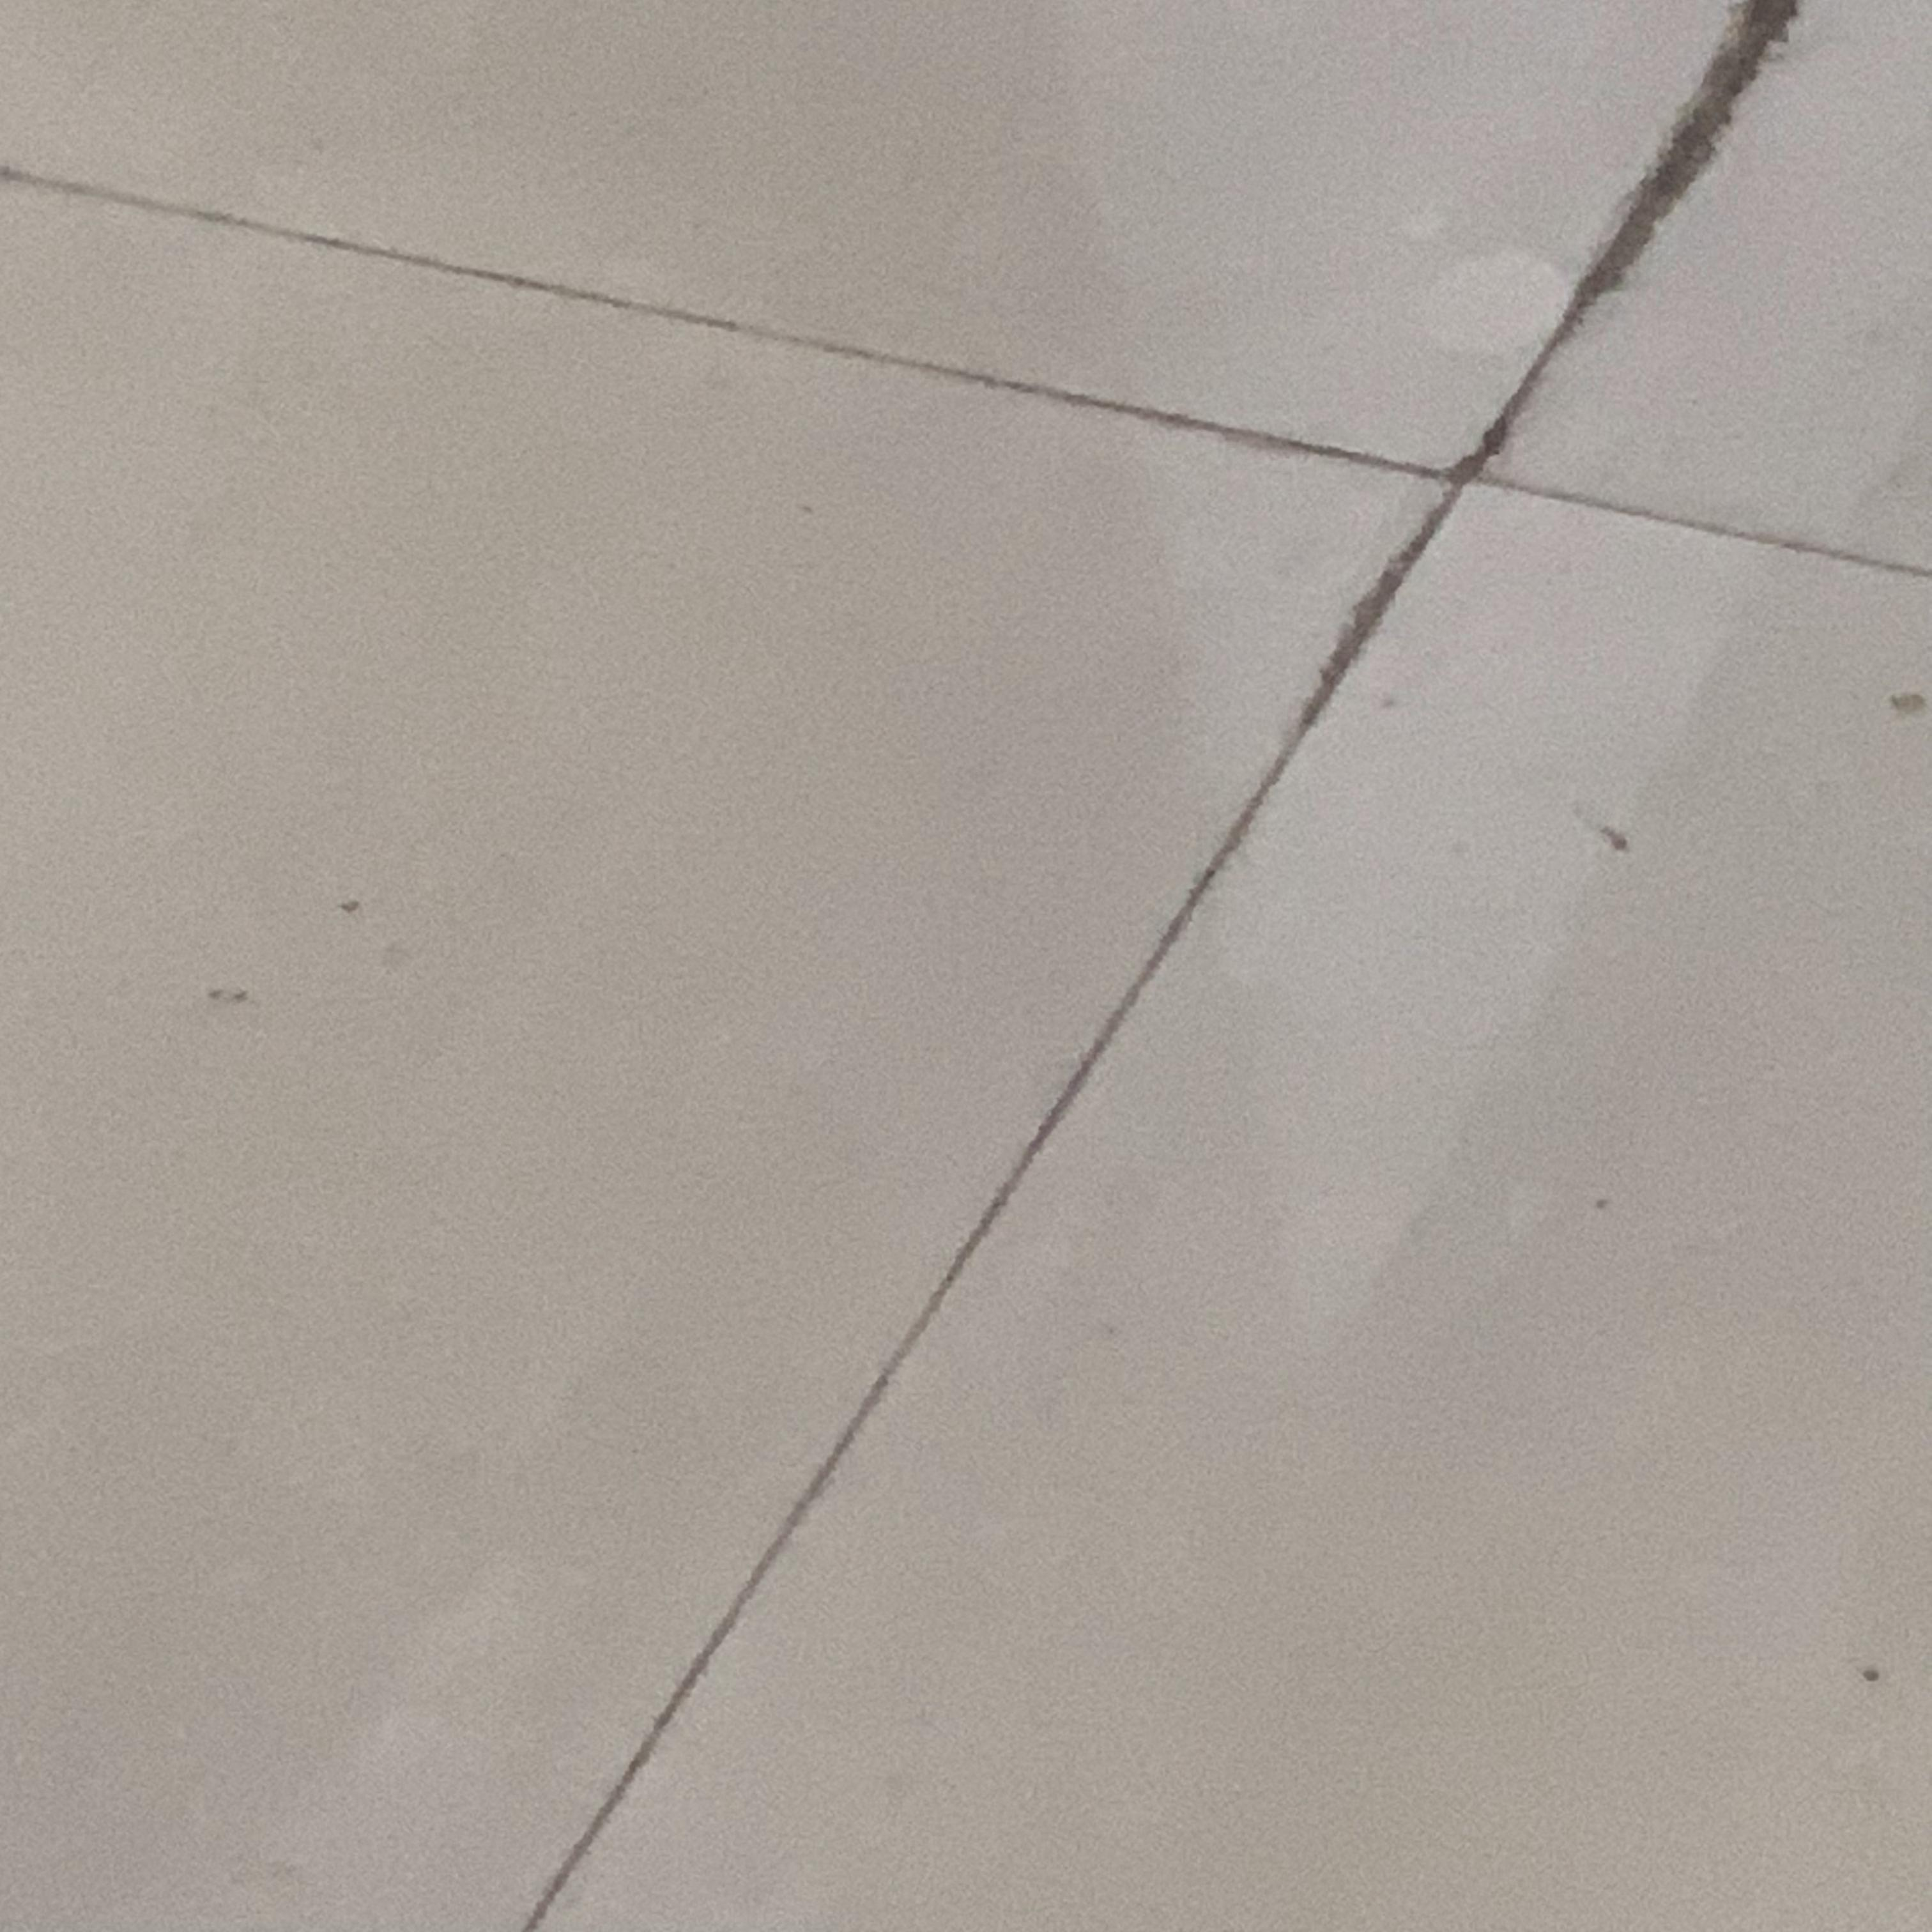reflection: (1046, 4, 1932, 1371)
